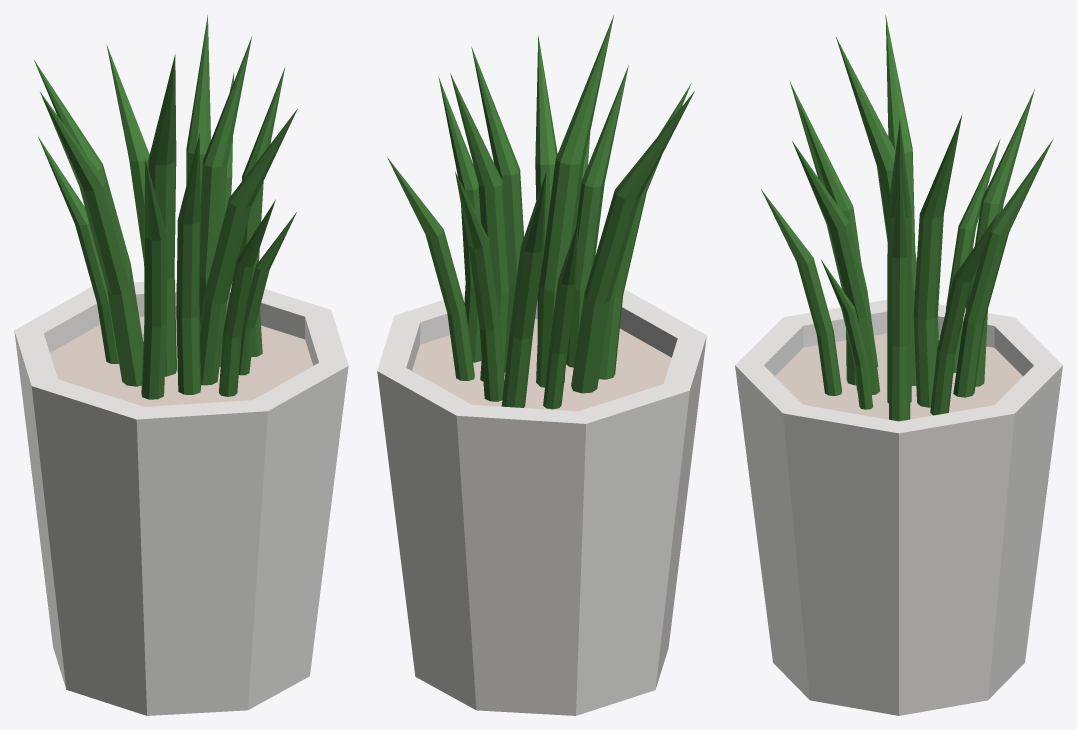
File: Patio_Flower.fbx
3 views of the same model, side by side, from view 1: azimuth 30°, elevation 25°; view 2: azimuth 150°, elevation 25°; view 3: azimuth 270°, elevation 25° (orthographic). The views are drawn at different scales.
Visible parts, largest first — view 1: Patio_Flower; view 2: Patio_Flower; view 3: Patio_Flower.
Boxes of the visible parts, x1,y1,x2,y2 form: Patio_Flower: (14, 15, 348, 715); Patio_Flower: (377, 15, 706, 715); Patio_Flower: (735, 15, 1062, 715).
Size of the model in its own units: 40.66 by 83.31 by 40.66.
